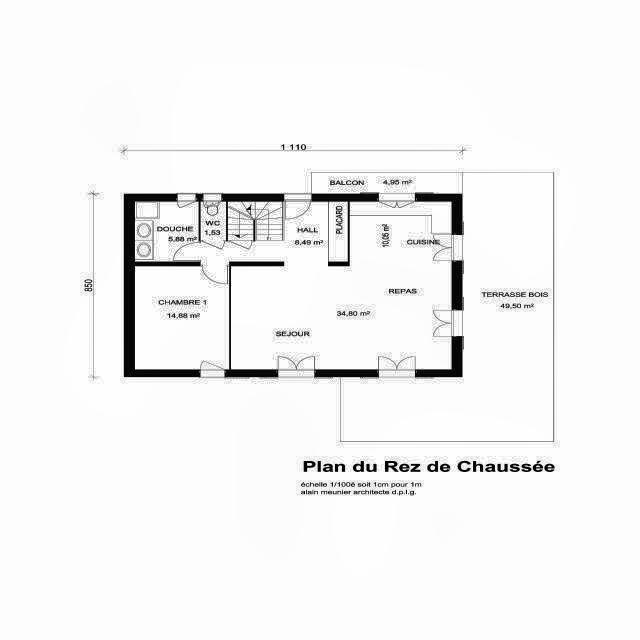room: (200, 202, 452, 369), (135, 266, 229, 369), (135, 201, 199, 261), (228, 202, 282, 240), (201, 201, 226, 240)
